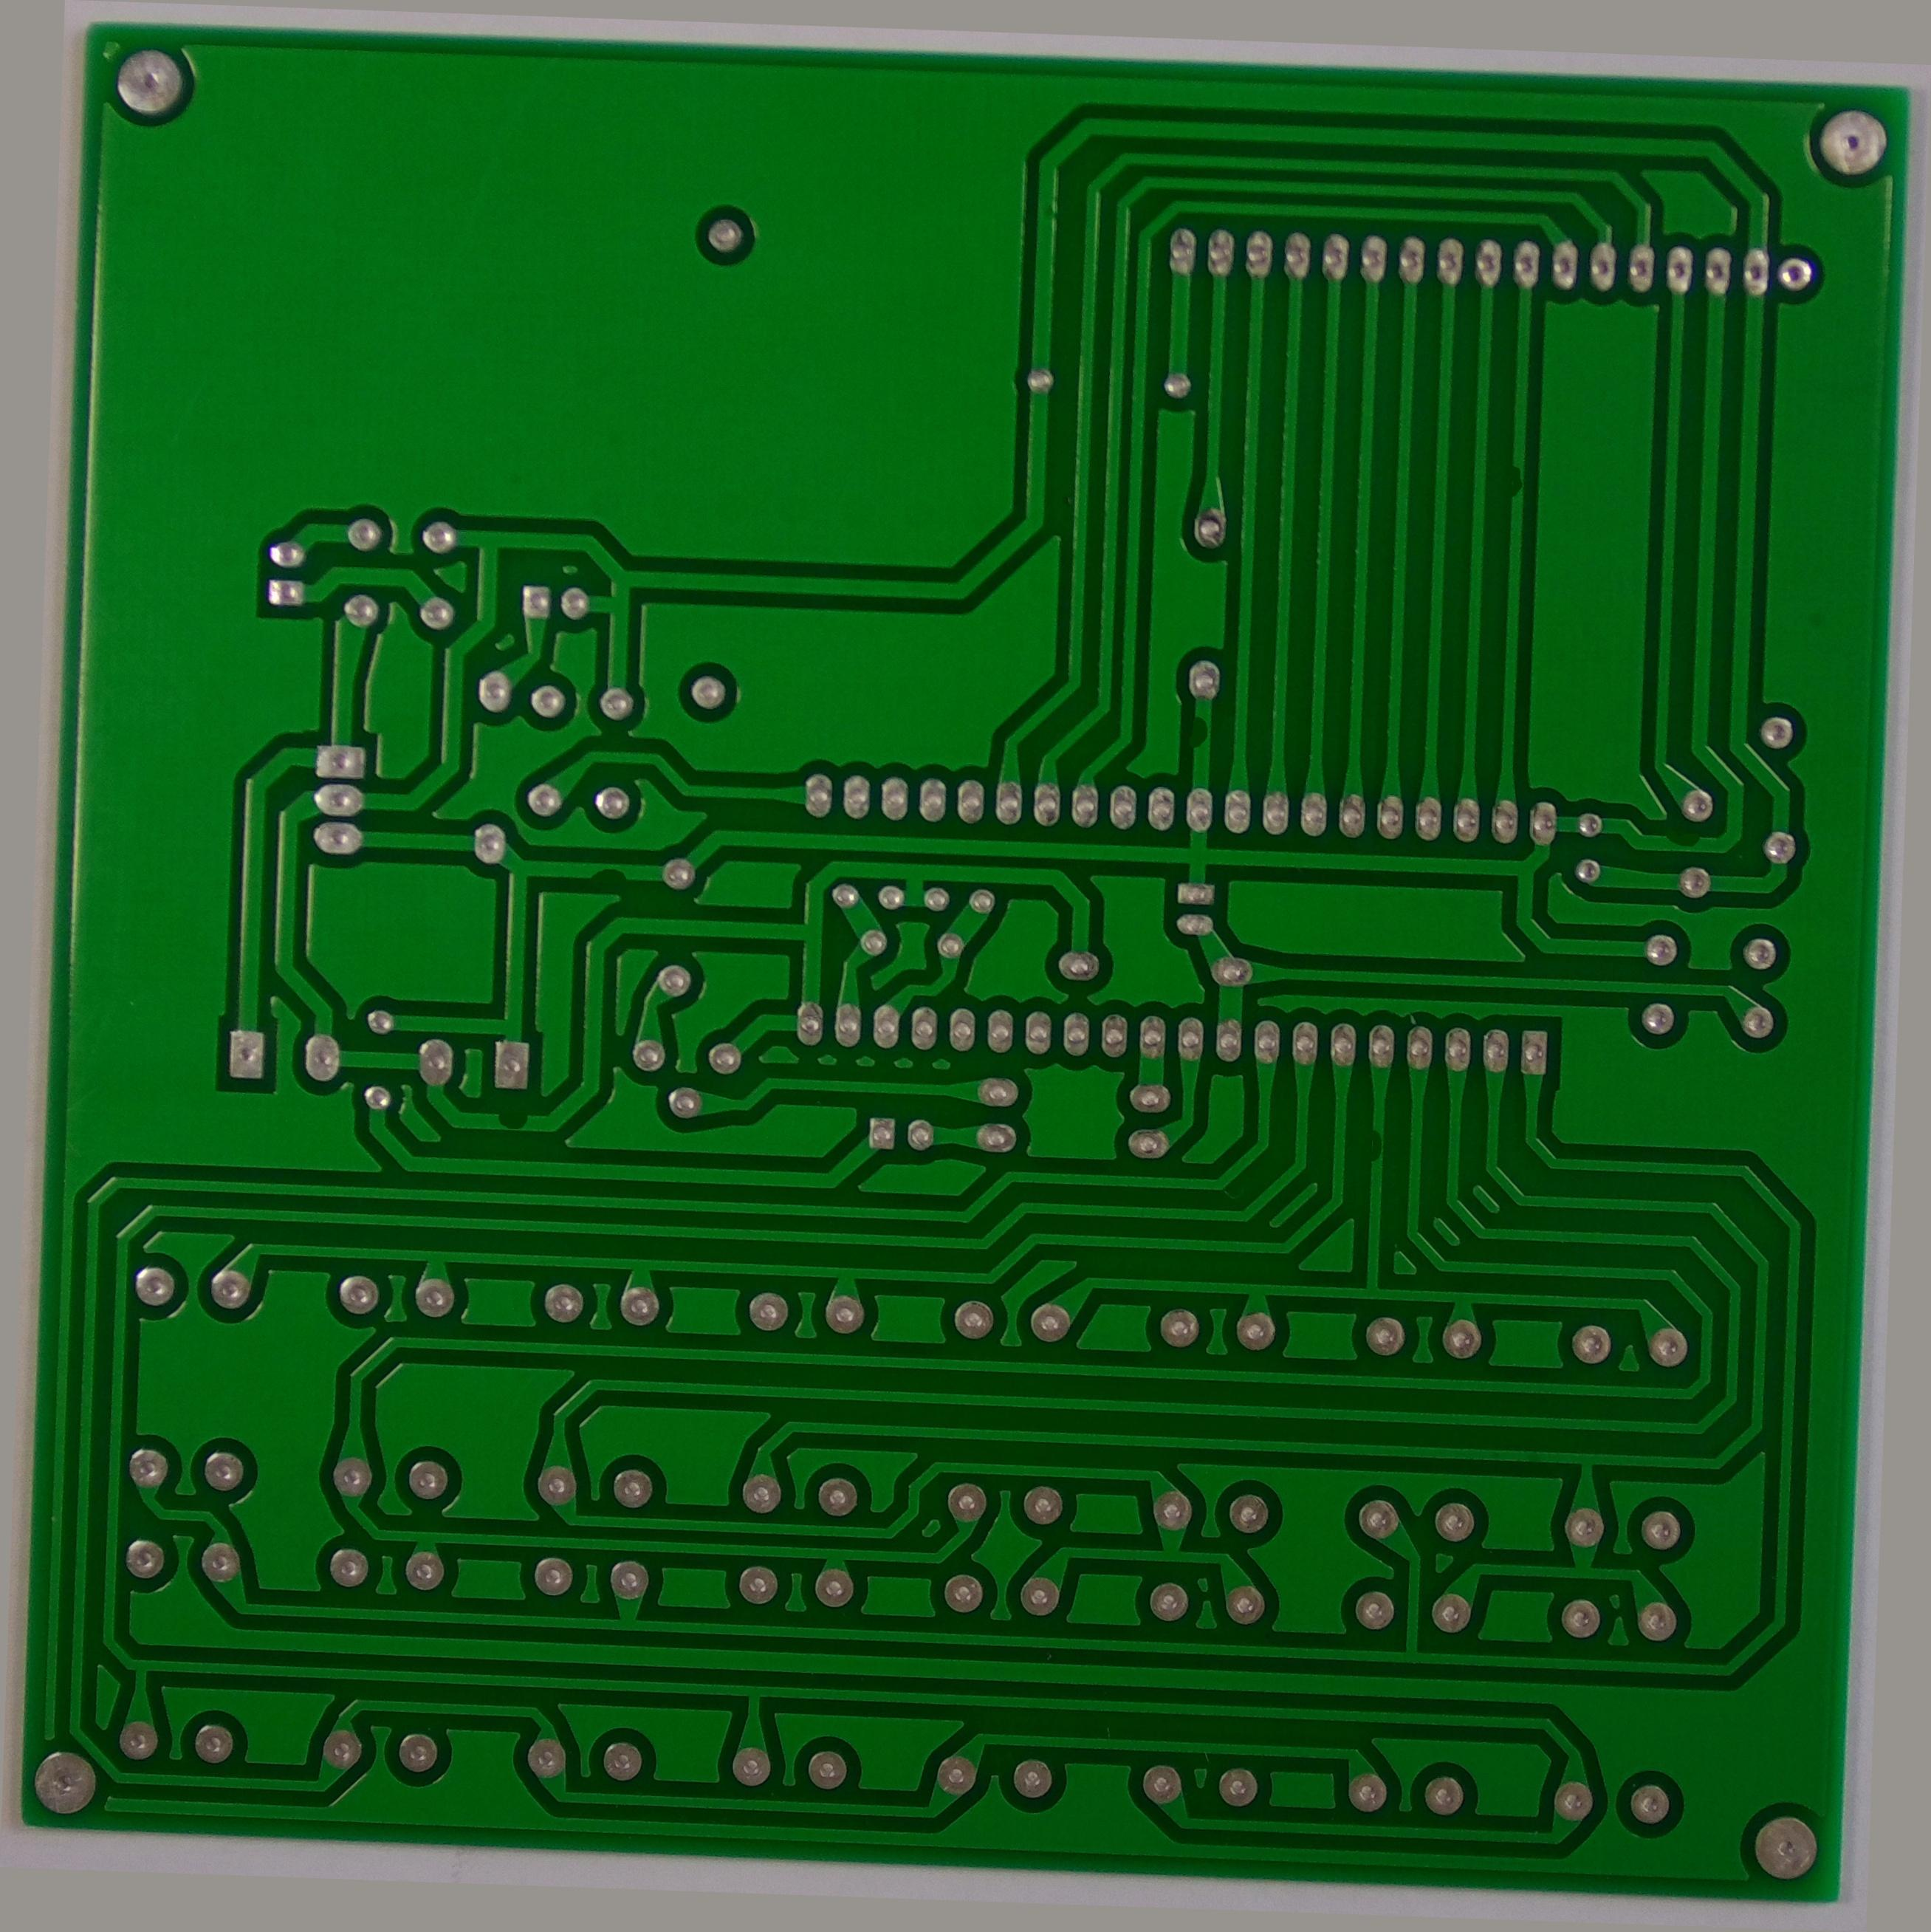mouse_bite: (1494, 416, 1535, 474), (1179, 688, 1220, 745), (476, 1122, 532, 1162), (1378, 1109, 1416, 1168), (561, 863, 621, 901)
